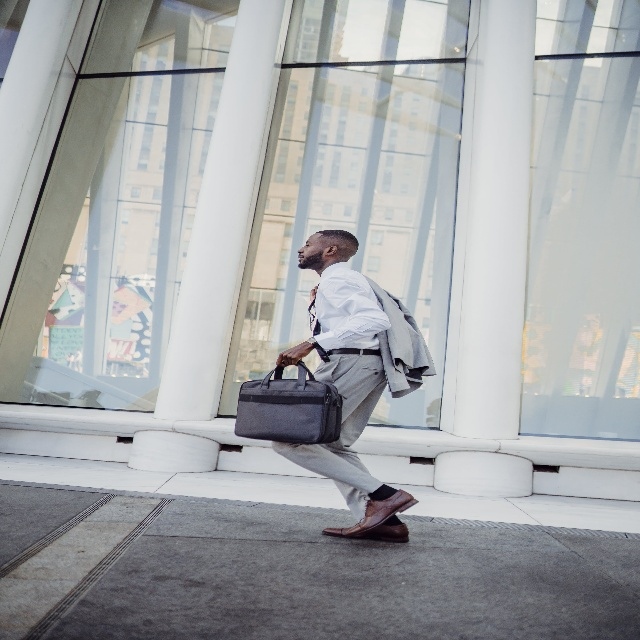Sin_guantes: (275, 339, 312, 367), (309, 286, 318, 306)
